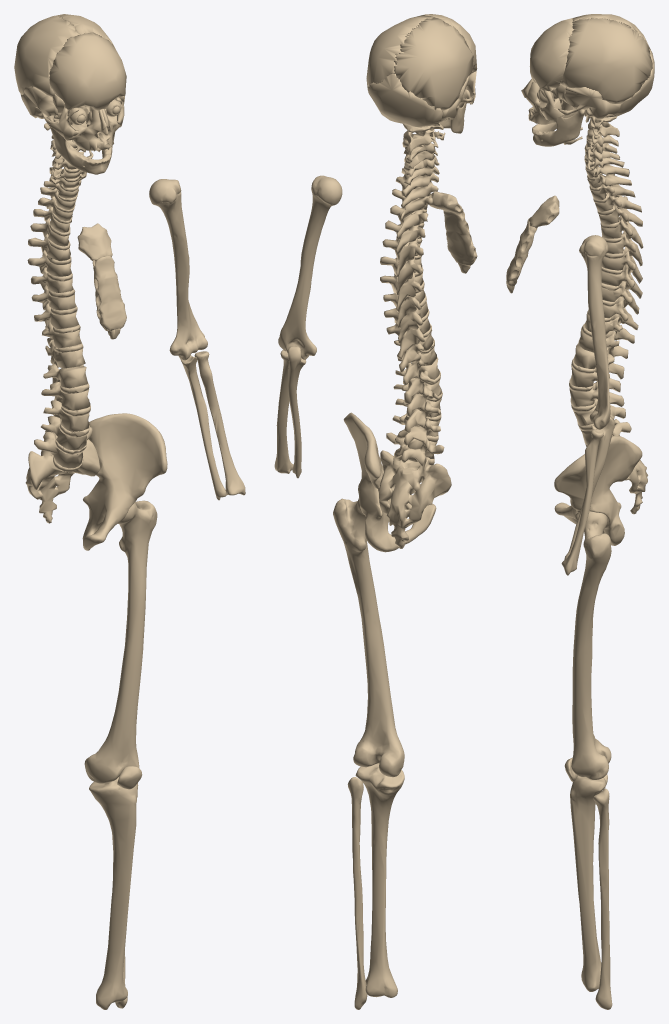
Rendered from huesos-regiones.glb.
3 renders of one model, left to right at view 1: azimuth 30°, elevation 25°; view 2: azimuth 150°, elevation 25°; view 3: azimuth 270°, elevation 25°, orthographic. The views are drawn at different scales.
Parts seen in each view (by area): view 1: spine__toracica, pelvis_left__ilion, skull__frontal, femur_left__cuerpo, spine__lumbar, skull__parietales, tibia_left__cuerpo, spine__sacro, sternum__cuerpo, humerus_left__cuerpo, femur_left__base, skull__maxilares (+15 smaller); view 2: skull__parietales, spine__toracica, femur_left__cuerpo, spine__lumbar, spine__sacro, tibia_left__cuerpo, skull__occipital, humerus_left__cuerpo, femur_left__base, pelvis_left__ilion, spine__cervical, fibula_left__cuerpo (+10 smaller); view 3: spine__toracica, skull__parietales, femur_left__cuerpo, spine__lumbar, pelvis_left__ilion, tibia_left__cuerpo, skull__frontal, humerus_left__cuerpo, fibula_left__cuerpo, spine__cervical, femur_left__base, skull__mandibula (+16 smaller).
Boxes of the visible parts, x1,y1,x2,y2 form: spine__toracica: [27, 173, 86, 368]; pelvis_left__ilion: [89, 413, 167, 497]; skull__frontal: [49, 32, 126, 111]; femur_left__cuerpo: [104, 532, 151, 749]; spine__lumbar: [34, 364, 92, 472]; skull__parietales: [14, 14, 115, 96]; tibia_left__cuerpo: [104, 812, 136, 974]; spine__sacro: [25, 439, 100, 503]; sternum__cuerpo: [92, 256, 126, 331]; humerus_left__cuerpo: [164, 207, 195, 330]; femur_left__base: [93, 500, 157, 759]; skull__maxilares: [68, 109, 120, 151]; skull__parietales: [366, 15, 473, 110]; spine__toracica: [380, 176, 438, 384]; femur_left__cuerpo: [340, 534, 395, 734]; spine__lumbar: [386, 357, 444, 466]; spine__sacro: [378, 450, 451, 534]; tibia_left__cuerpo: [369, 799, 392, 968]; skull__occipital: [368, 73, 443, 127]; humerus_left__cuerpo: [283, 208, 327, 334]; femur_left__base: [333, 498, 401, 749]; pelvis_left__ilion: [343, 412, 383, 497]; spine__cervical: [401, 134, 439, 197]; fibula_left__cuerpo: [351, 800, 364, 983]; spine__toracica: [578, 166, 643, 358]; skull__parietales: [560, 14, 652, 103]; femur_left__cuerpo: [572, 560, 608, 746]; spine__lumbar: [569, 343, 631, 446]; pelvis_left__ilion: [554, 436, 642, 507]; tibia_left__cuerpo: [571, 807, 600, 964]; skull__frontal: [529, 18, 573, 91]; humerus_left__cuerpo: [587, 269, 609, 404]; fibula_left__cuerpo: [598, 812, 610, 985]; spine__cervical: [584, 129, 629, 181]; femur_left__base: [573, 517, 611, 758]; skull__mandibula: [532, 107, 585, 146].
Size of the model in its own units: 0.3552 by 1.66 by 0.2315.
